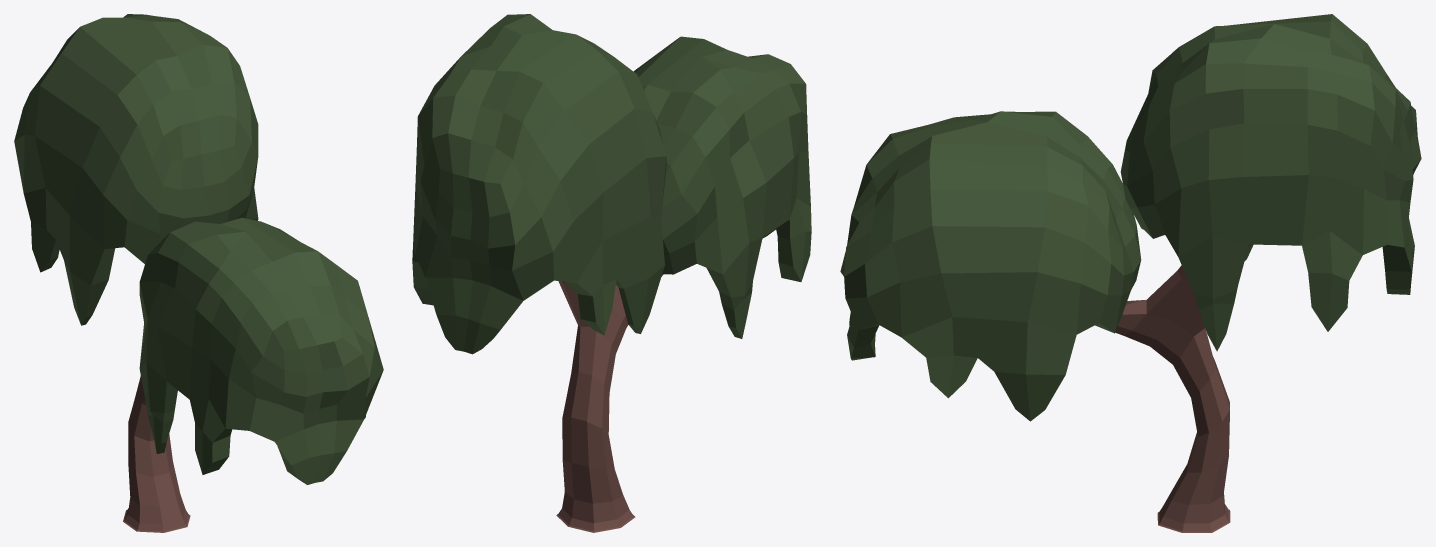
The model's file is willow_5.glb.
The picture shows the model from 3 angles, left to right: view 1: azimuth 30°, elevation 25°; view 2: azimuth 150°, elevation 25°; view 3: azimuth 270°, elevation 25°; orthographic projection. The views are drawn at different scales.
Parts seen in each view (by area): view 1: willow_5; view 2: willow_5; view 3: willow_5.
Part boxes in pixels (x1,y1,x2,y2): willow_5: [14, 14, 383, 532]; willow_5: [412, 14, 811, 532]; willow_5: [840, 14, 1421, 532].
Bounding box in the file's own units: 1.01 × 2.42 × 2.49.
Materials: 1 (1 with a texture image).
